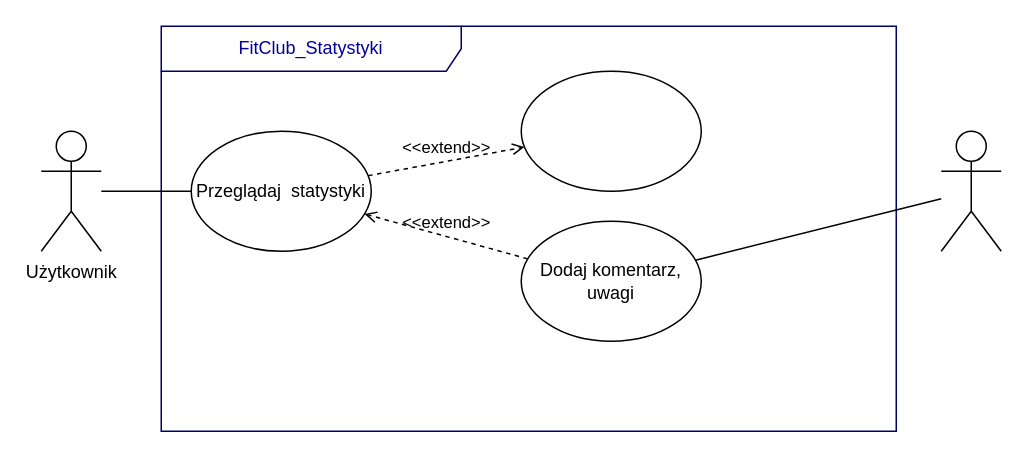
The diagram is 1028 pixels wide and 458 high, and some of its shapes have lost their labels. The shapes that lost their labels are listed below. From the top down, each one's centre as x and y in pixels, then its label:
the point at 610,130: Wzięcie udziału w badaniu konsumenta
the point at 970,190: Trener
